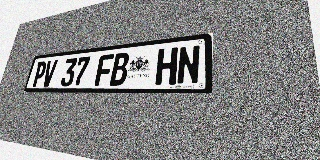3: (60, 58, 78, 86)
7: (72, 56, 91, 86)
B: (109, 52, 130, 86)
F: (94, 54, 114, 86)
H: (155, 47, 178, 85)
N: (176, 45, 201, 85)
P: (31, 61, 48, 87)
V: (41, 60, 58, 87)
